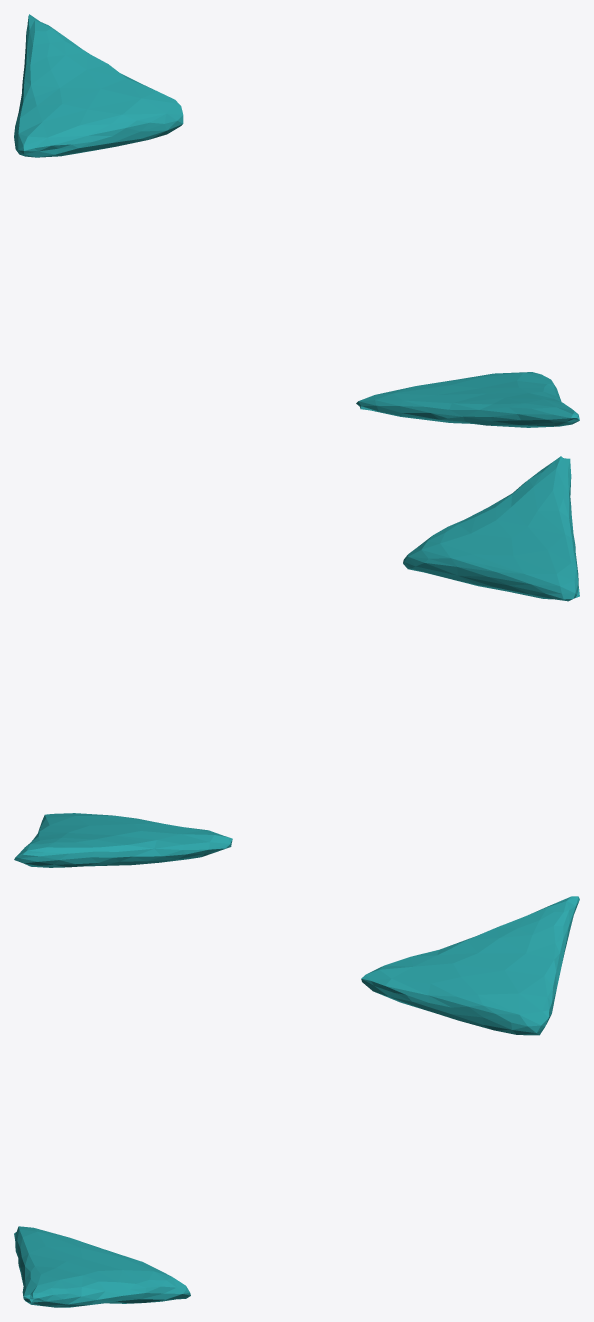
The picture shows the model from 3 angles, top to bottom: view 1: azimuth 30°, elevation 25°; view 2: azimuth 150°, elevation 25°; view 3: azimuth 330°, elevation 25°; orthographic projection.
Parts seen in each view (by area): view 1: 281.obj; view 2: 281.obj; view 3: 281.obj.
Part boxes in pixels (left/top/right/bottom): 281.obj: left=14, top=14, right=579, bottom=427; 281.obj: left=14, top=456, right=579, bottom=867; 281.obj: left=14, top=896, right=579, bottom=1307.
Size of the model in its own units: 881 by 280 by 4610.
